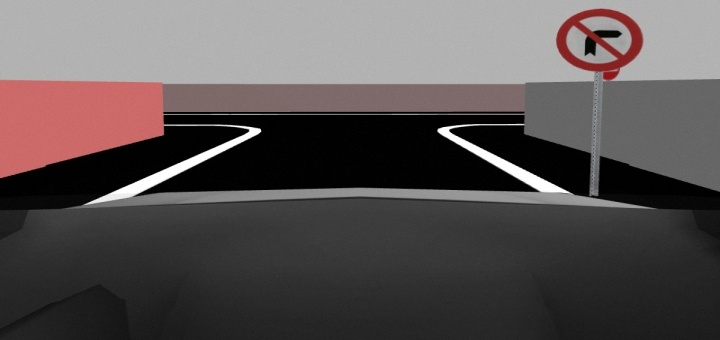saga_donulmez: (555, 8, 647, 70)
